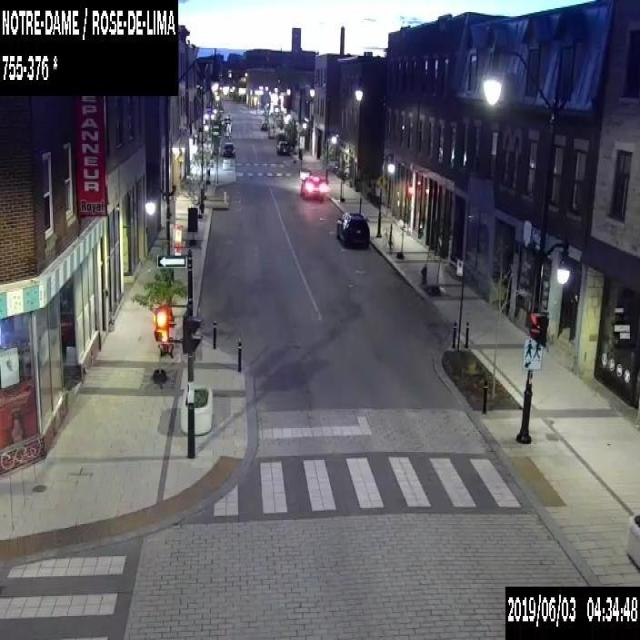vehicle: (336, 212, 369, 248), (300, 175, 324, 200), (222, 142, 235, 158), (276, 140, 289, 155), (260, 120, 267, 129)
